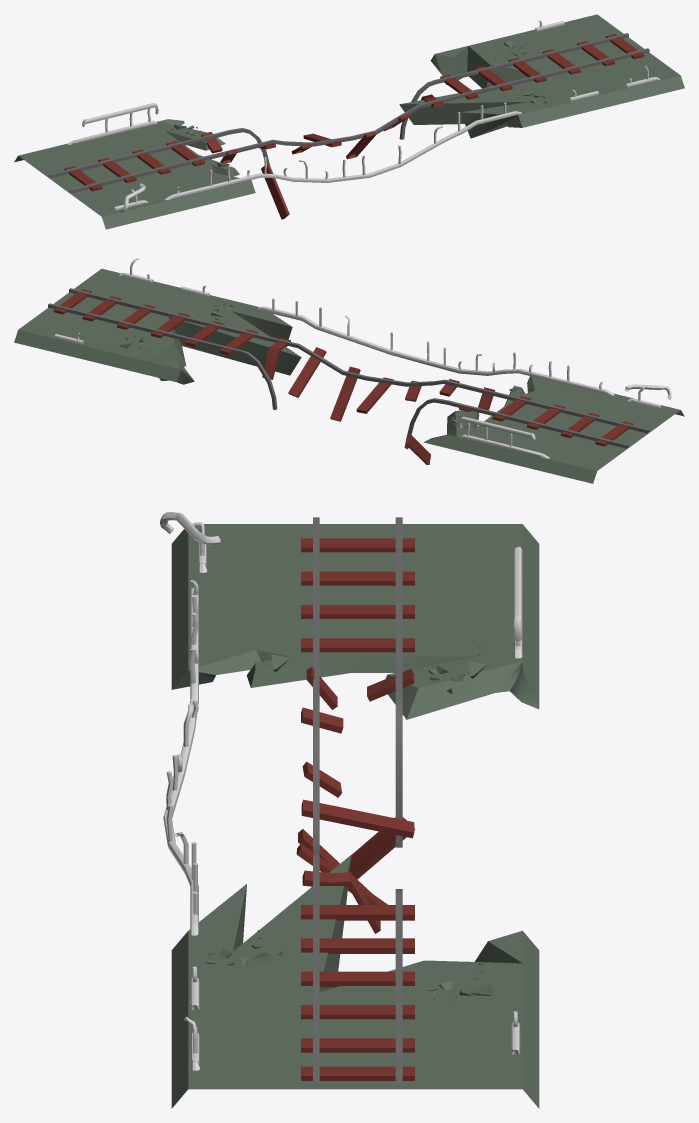
3 views of the same model, one above another, from view 1: azimuth 30°, elevation 25°; view 2: azimuth 150°, elevation 25°; view 3: azimuth 270°, elevation 25° (orthographic). The views are drawn at different scales.
Parts seen in each view (by area): view 1: pCube537; view 2: pCube537; view 3: pCube537.
Part boxes in pixels (bbox=[...]): pCube537: bbox=[14, 14, 684, 229]; pCube537: bbox=[14, 258, 684, 483]; pCube537: bbox=[160, 512, 539, 1108].
Bounding box in the file's own units: 200 × 33.93 × 56.72.
